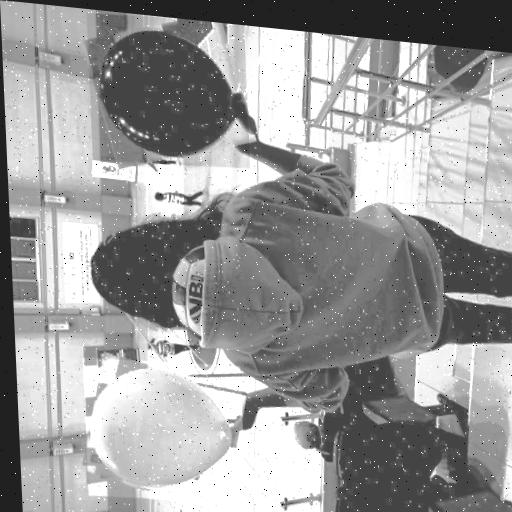balloon: (86, 9, 251, 177), (83, 351, 246, 512)
